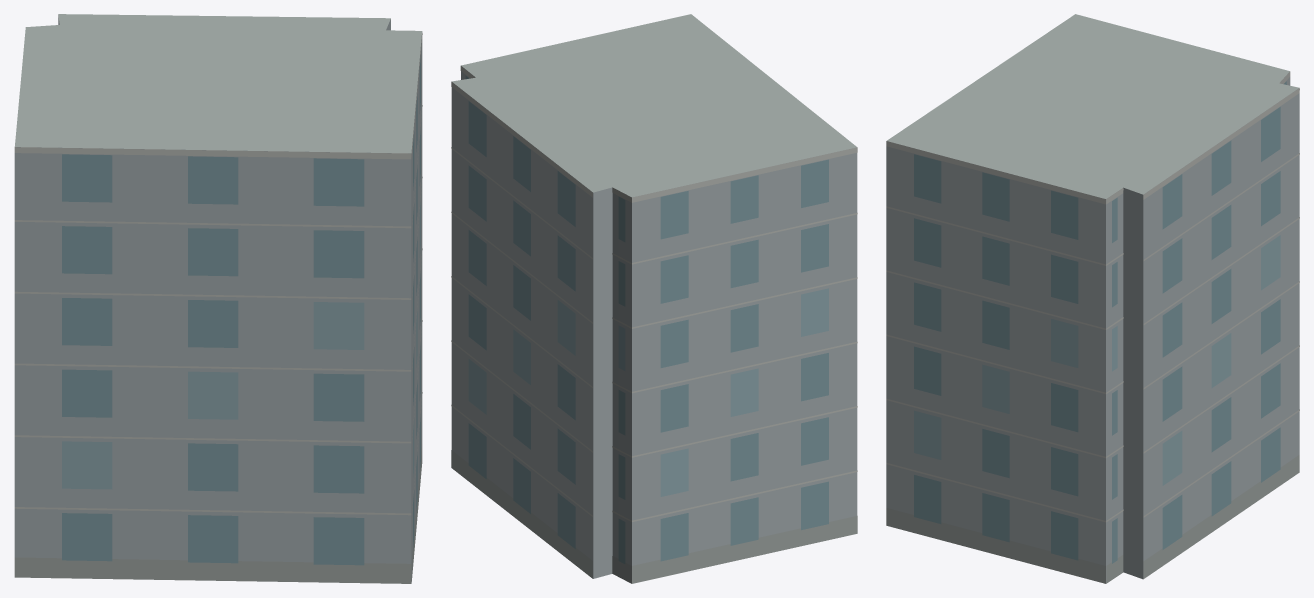
Rendered from survey-upis-33036830.glb.
The picture shows the model from 3 angles, left to right: view 1: azimuth 30°, elevation 25°; view 2: azimuth 150°, elevation 25°; view 3: azimuth 270°, elevation 25°; orthographic projection. The views are drawn at different scales.
Visible parts, largest first — view 1: survey-upis-33036830.tmp; view 2: survey-upis-33036830.tmp; view 3: survey-upis-33036830.tmp.
Part boxes in pixels (left/top/right/bottom): survey-upis-33036830.tmp: left=14, top=14, right=422, bottom=583; survey-upis-33036830.tmp: left=451, top=14, right=857, bottom=583; survey-upis-33036830.tmp: left=886, top=14, right=1299, bottom=583.
Size of the model in its own units: 18.03 by 17.44 by 17.
